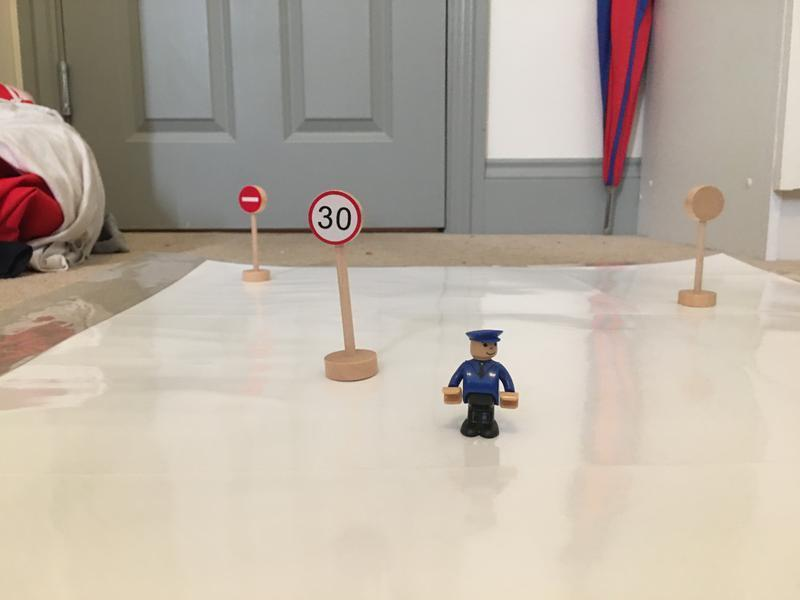Traffic_Sign_30: (308, 190, 362, 245)
Traffic_Sign_No_Entry: (239, 185, 262, 211)
person: (441, 328, 522, 443)
